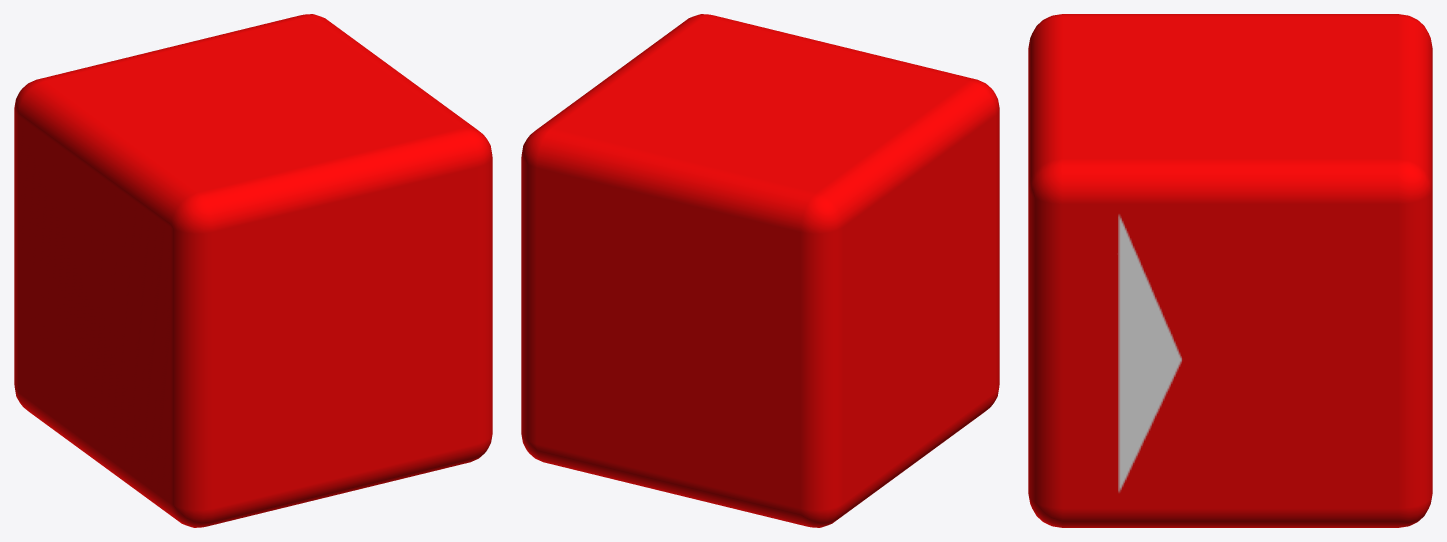
The model's file is box_red_arrow.fbx.
3 renders of one model, left to right at view 1: azimuth 30°, elevation 25°; view 2: azimuth 150°, elevation 25°; view 3: azimuth 270°, elevation 25°, orthographic. The views are drawn at different scales.
Visible parts, largest first — view 1: Cube; view 2: Cube; view 3: Cube.
Part boxes in pixels (x1=…): Cube: x1=14, y1=14, x2=492, y2=527; Cube: x1=521, y1=14, x2=999, y2=527; Cube: x1=1028, y1=14, x2=1432, y2=527.
Bounding box in the file's own units: 200 × 200 × 200.
Materials: 1 (1 with a texture image).
